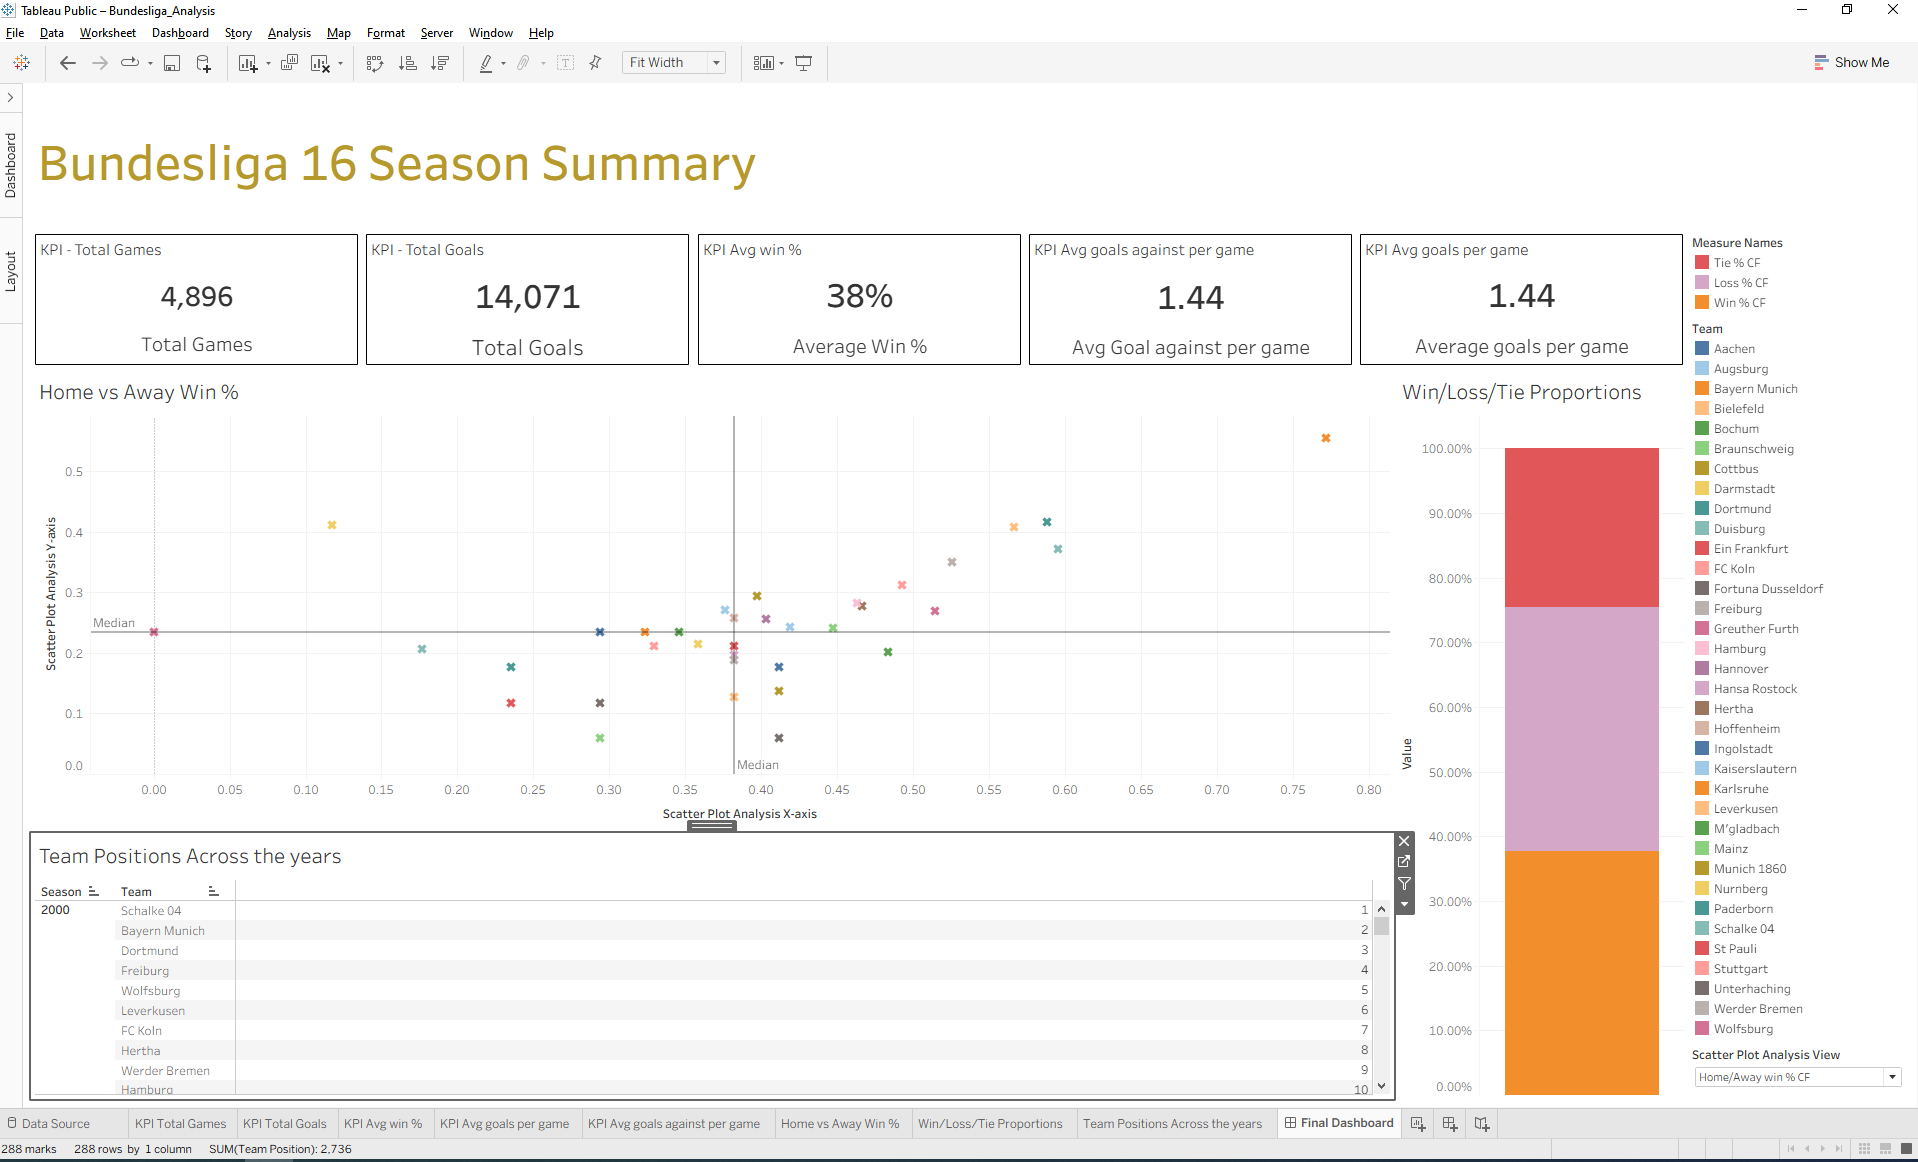

What the dashboard file says about the page in this screenshot:
{"tool":"tableau","page":{"name":"Final Dashboard","canvas":[1000,1000],"units":"permille","ordinal":0},"visuals":[{"type":"text","box":[4.9,7.8,990.2,103.5]},{"type":"worksheet","title":"KPI Total Games","mark":"Automatic","box":[4.9,111.3,179,168]},{"type":"worksheet","title":"KPI Total Goals","mark":"Automatic","box":[183.9,111.3,179,168]},{"type":"worksheet","title":"KPI Avg win %","mark":"Automatic","box":[362.9,111.3,179,168]},{"type":"worksheet","title":"KPI Avg goals against per game","mark":"Automatic","box":[541.9,111.3,179,168]},{"type":"worksheet","title":"KPI Avg goals per game","mark":"Automatic","box":[720.9,111.3,179,168]},{"type":"legend","title":"Win/Loss/Tie Proportions","param":"[federated.0cez1wn0fekxbo1dsyzyy1gnsfno].[:Measure Names]","box":[899.9,111.3,95.2,84]},{"type":"legend","title":"Home vs Away Win %","param":"[federated.0cez1wn0fekxbo1dsyzyy1gnsfno].[none:Team:nk]","box":[899.9,195.3,95.2,709]},{"type":"worksheet","title":"Home vs Away Win %","mark":"Automatic","rows":["Calculation_1052242296250369"],"cols":["Calculation_1052242295746560"],"box":[4.9,279.3,718.6,453.1]},{"type":"worksheet","title":"Win/Loss/Tie Proportions","mark":"Bar","box":[723.4,279.3,176.5,712.9]},{"type":"worksheet","title":"Team Positions Across the years","mark":"Automatic","rows":["Season","Team"],"box":[4.9,732.4,718.6,259.8]},{"type":"parameter","param":"[Parameters].[Parameter 1]","box":[899.9,904.3,95.2,50.8]}]}

Visuals, with their boxes on the dashboard's canvas, which has no fixed pixel size, in thousandths of its width and height (x1, y1, x2, y2). These are canvas units, not pixel positions in the 1918x1162 screenshot, which may show the page scaled, cropped or inside an application window:
text: {"left": 5, "top": 8, "right": 995, "bottom": 111}
"KPI Total Games" worksheet: {"left": 5, "top": 111, "right": 184, "bottom": 279}
"KPI Total Goals" worksheet: {"left": 184, "top": 111, "right": 363, "bottom": 279}
"KPI Avg win %" worksheet: {"left": 363, "top": 111, "right": 542, "bottom": 279}
"KPI Avg goals against per game" worksheet: {"left": 542, "top": 111, "right": 721, "bottom": 279}
"KPI Avg goals per game" worksheet: {"left": 721, "top": 111, "right": 900, "bottom": 279}
"Win/Loss/Tie Proportions" legend: {"left": 900, "top": 111, "right": 995, "bottom": 195}
"Home vs Away Win %" legend: {"left": 900, "top": 195, "right": 995, "bottom": 904}
"Home vs Away Win %" worksheet: {"left": 5, "top": 279, "right": 724, "bottom": 732}
"Win/Loss/Tie Proportions" worksheet (Bar marks): {"left": 723, "top": 279, "right": 900, "bottom": 992}
"Team Positions Across the years" worksheet: {"left": 5, "top": 732, "right": 724, "bottom": 992}
parameter: {"left": 900, "top": 904, "right": 995, "bottom": 955}
